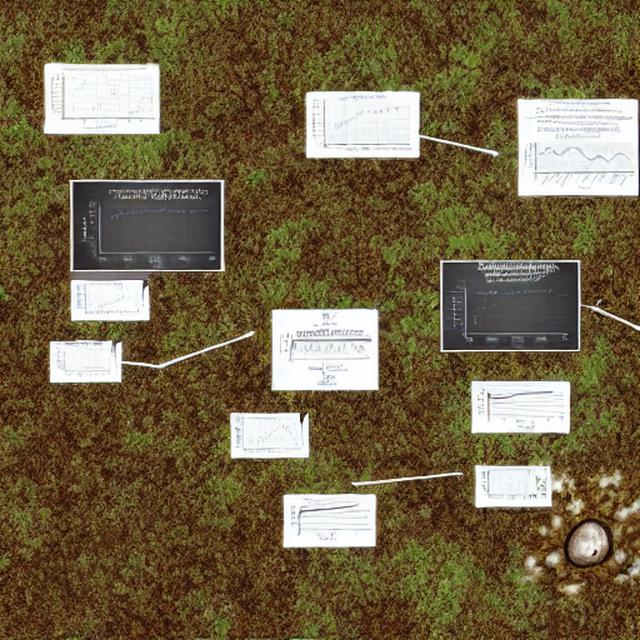Graph: (79, 186, 221, 270), (521, 126, 636, 193), (48, 65, 155, 131), (310, 93, 414, 154), (475, 385, 566, 429), (233, 417, 297, 454), (74, 281, 138, 318)
